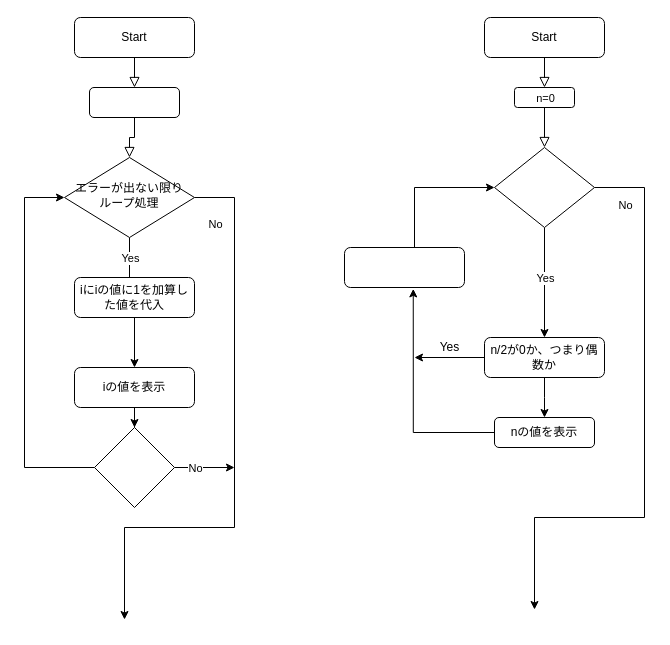
The diagram is 670 pixels wide and 645 high, and some of its shapes have lost their labels. Each missing label, with the centre of its shape:
i=0: (x=134, y=102)
i=10では ないか？: (x=134, y=467)
n=20でない: (x=544, y=187)
nにnの値に1を加算した値を代入: (x=404, y=267)
